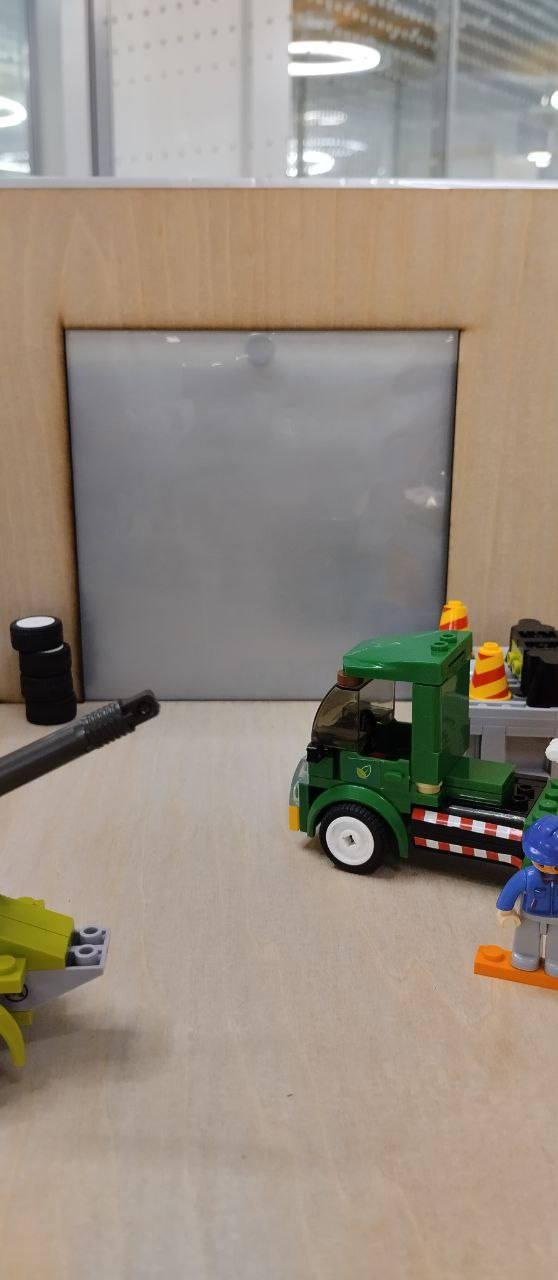Cone: (463, 640, 512, 714), (431, 591, 476, 666)
Crane: (0, 694, 161, 1079)
Object Black: (503, 617, 558, 714)
Truck: (280, 629, 558, 908)
